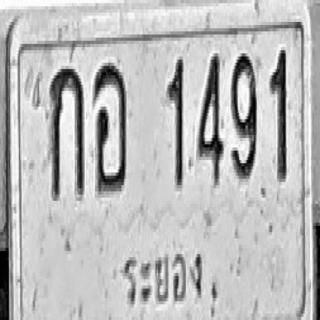A01: (50, 64, 84, 199)
A43: (93, 61, 126, 193)
N01: (270, 46, 286, 180), (167, 56, 183, 188)
N04: (197, 52, 223, 184)
N09: (230, 50, 257, 179)
